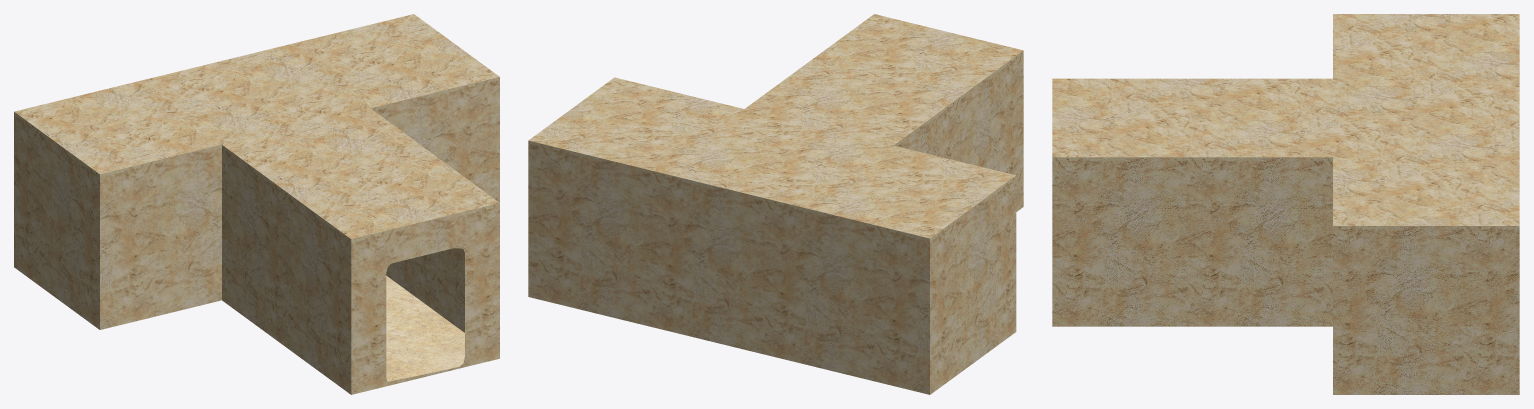
File: thm_tato_imprv_building_s06_r1_foyer_mesh.fbx
3 renders of one model, left to right at view 1: azimuth 30°, elevation 25°; view 2: azimuth 150°, elevation 25°; view 3: azimuth 270°, elevation 25°, orthographic. The views are drawn at different scales.
Visible parts, largest first — view 1: mesh_node; view 2: mesh_node; view 3: mesh_node.
Part boxes in pixels (x1,y1,x2,y2): mesh_node: [14, 14, 499, 394]; mesh_node: [528, 14, 1023, 394]; mesh_node: [1052, 14, 1519, 394].
Size of the model in its own units: 10.76 by 4 by 10.02.
